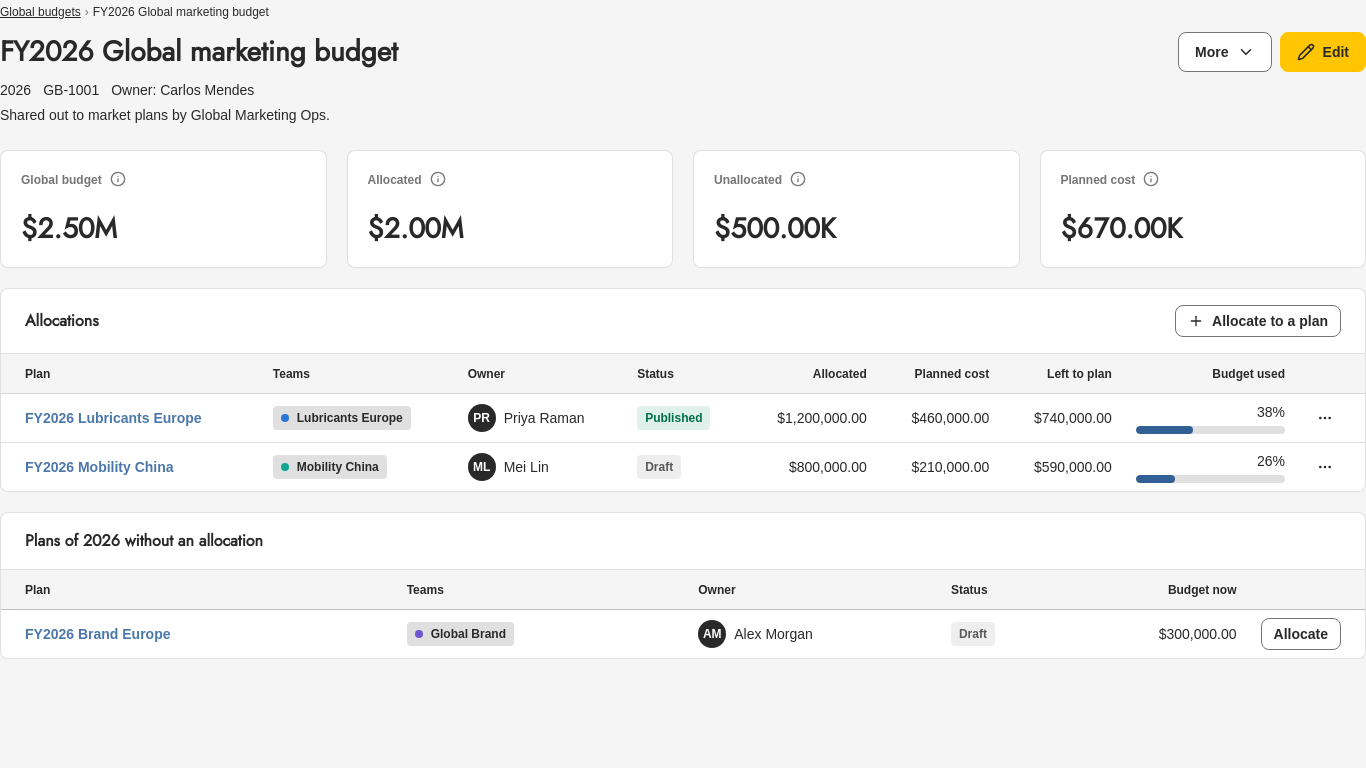
Scenario: GlobalBudgetPage allocations (014 US6, FR-030, FR-034) › changes an allocation with the allocation and plan versions (US6 scenario 2)
Expected: the table named "Allocations" is shown, [1,353,1365,491]
Click the button named "Actions for FY2026 Lubricants Europe" at (1325, 418), box [1309,402,1341,434]
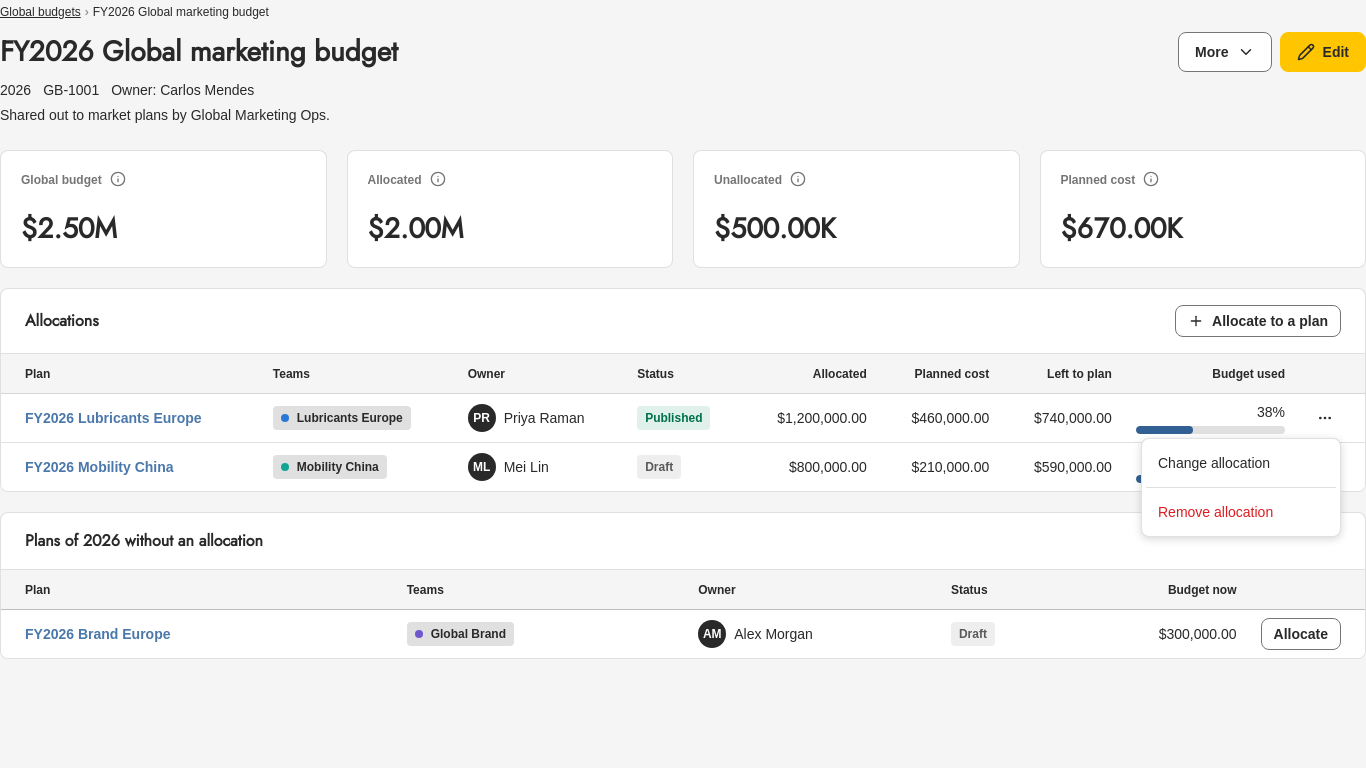
Click the menu item "Change allocation" at (1214, 463), box [1158,455,1270,471]
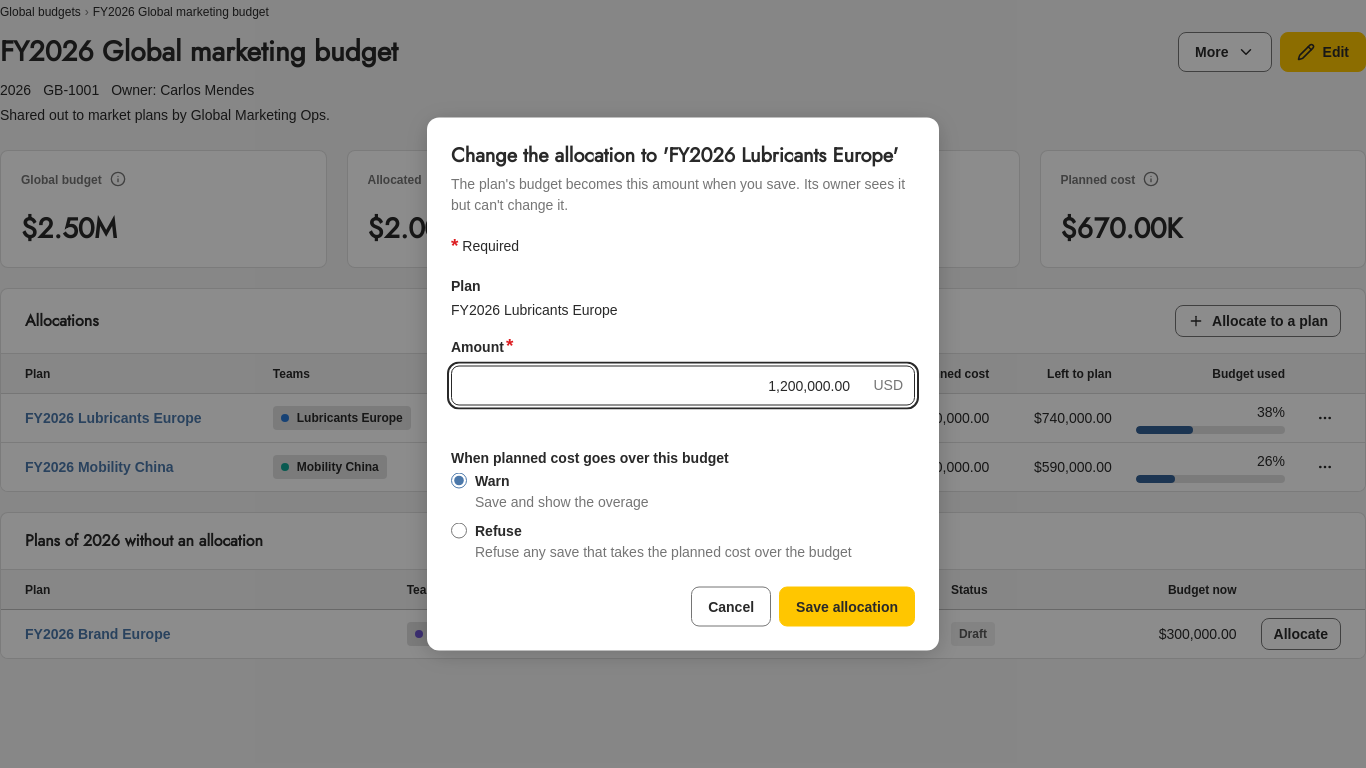
Now the field labelled "Amount" holds "1,200,000.00"
Replace the text in the field labelled "Amount" with "1300000" at (683, 386), box [451,366,915,406]
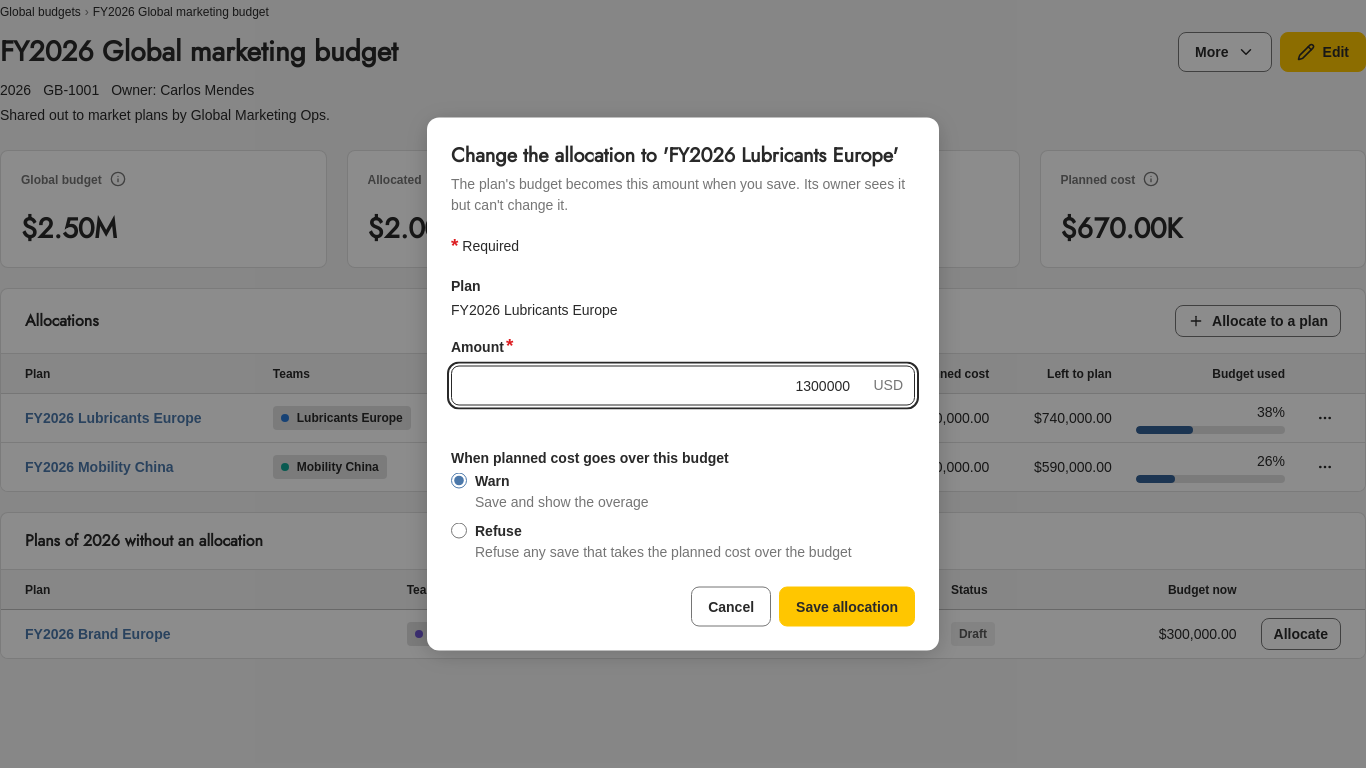
Click the button "Save allocation" at (847, 606), box [779,586,915,626]
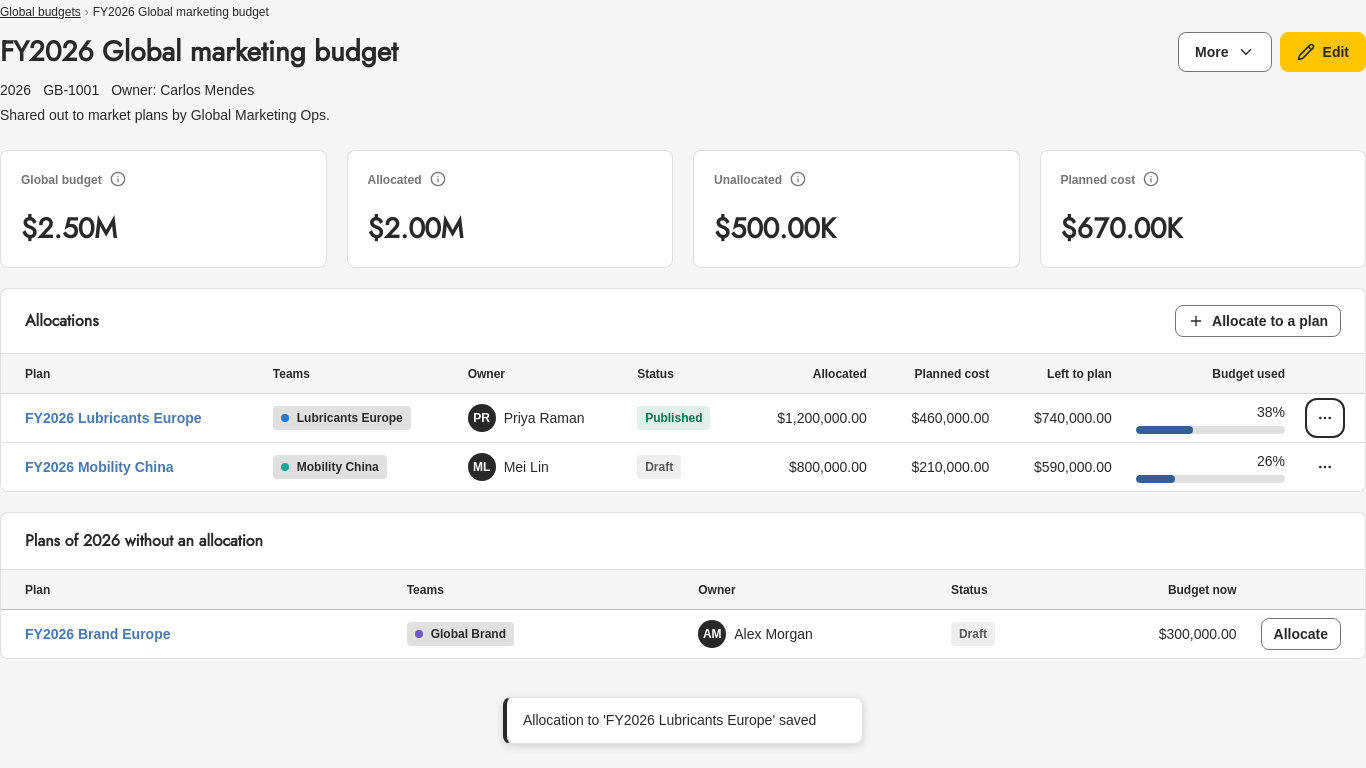
Now the text "Allocation to 'FY2026 Lubricants Europe' saved" is shown, box [523,710,850,731]
